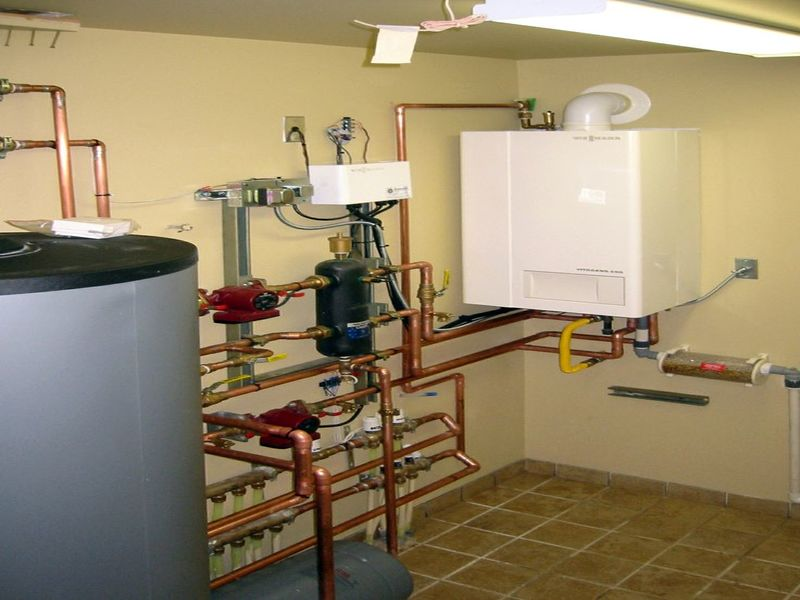valve: (195, 368, 260, 404), (421, 264, 452, 310), (235, 352, 287, 365)
